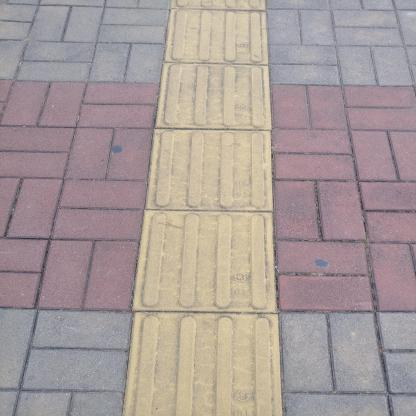podotacti: (116, 0, 298, 415)
